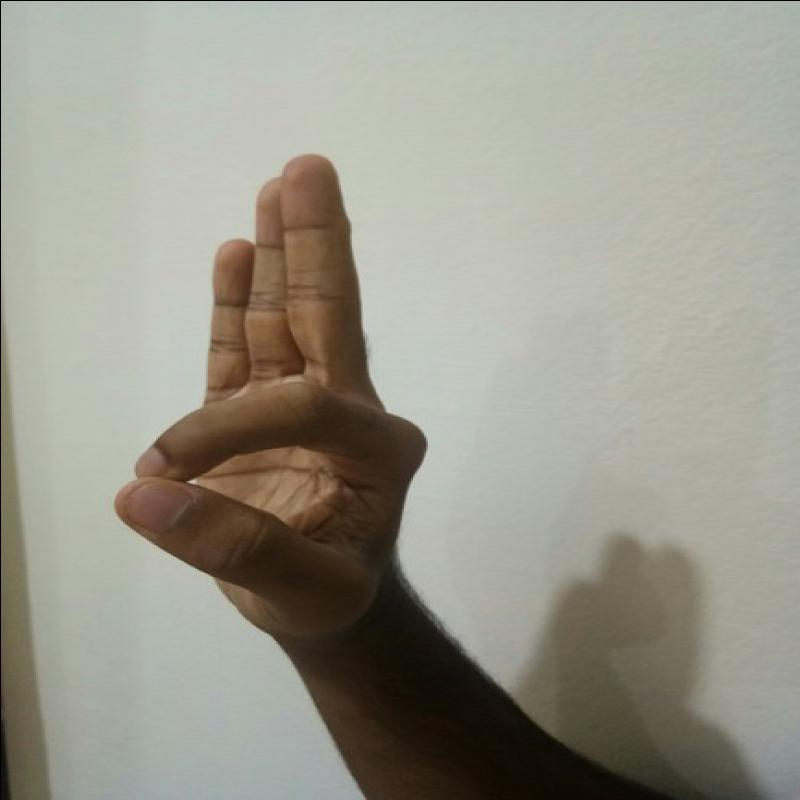Mudraakhyam: (102, 142, 441, 658)
